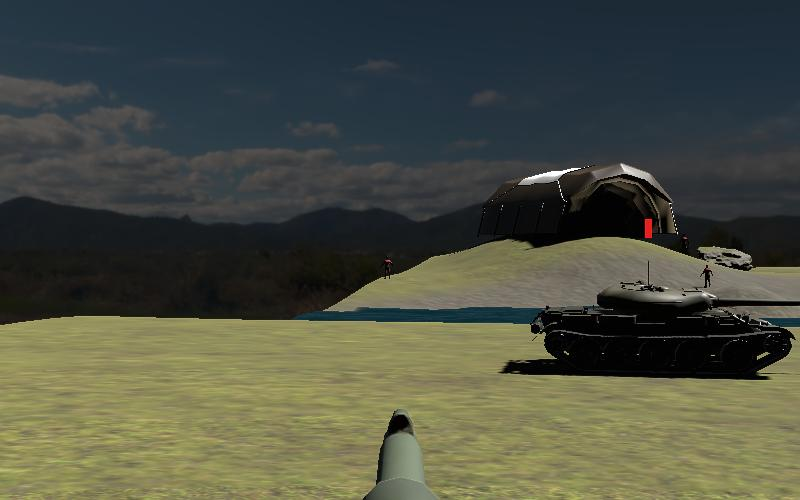Human: (379, 254, 396, 282)
Tank: (526, 275, 800, 382)
